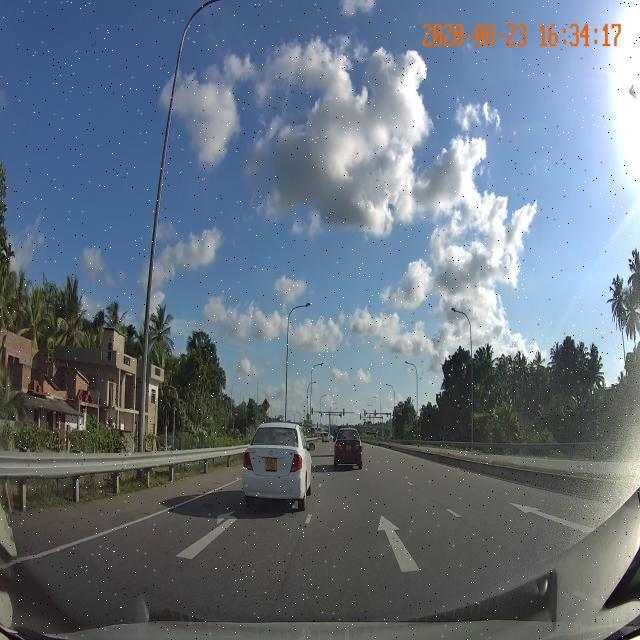forward: (255, 508, 572, 583)
